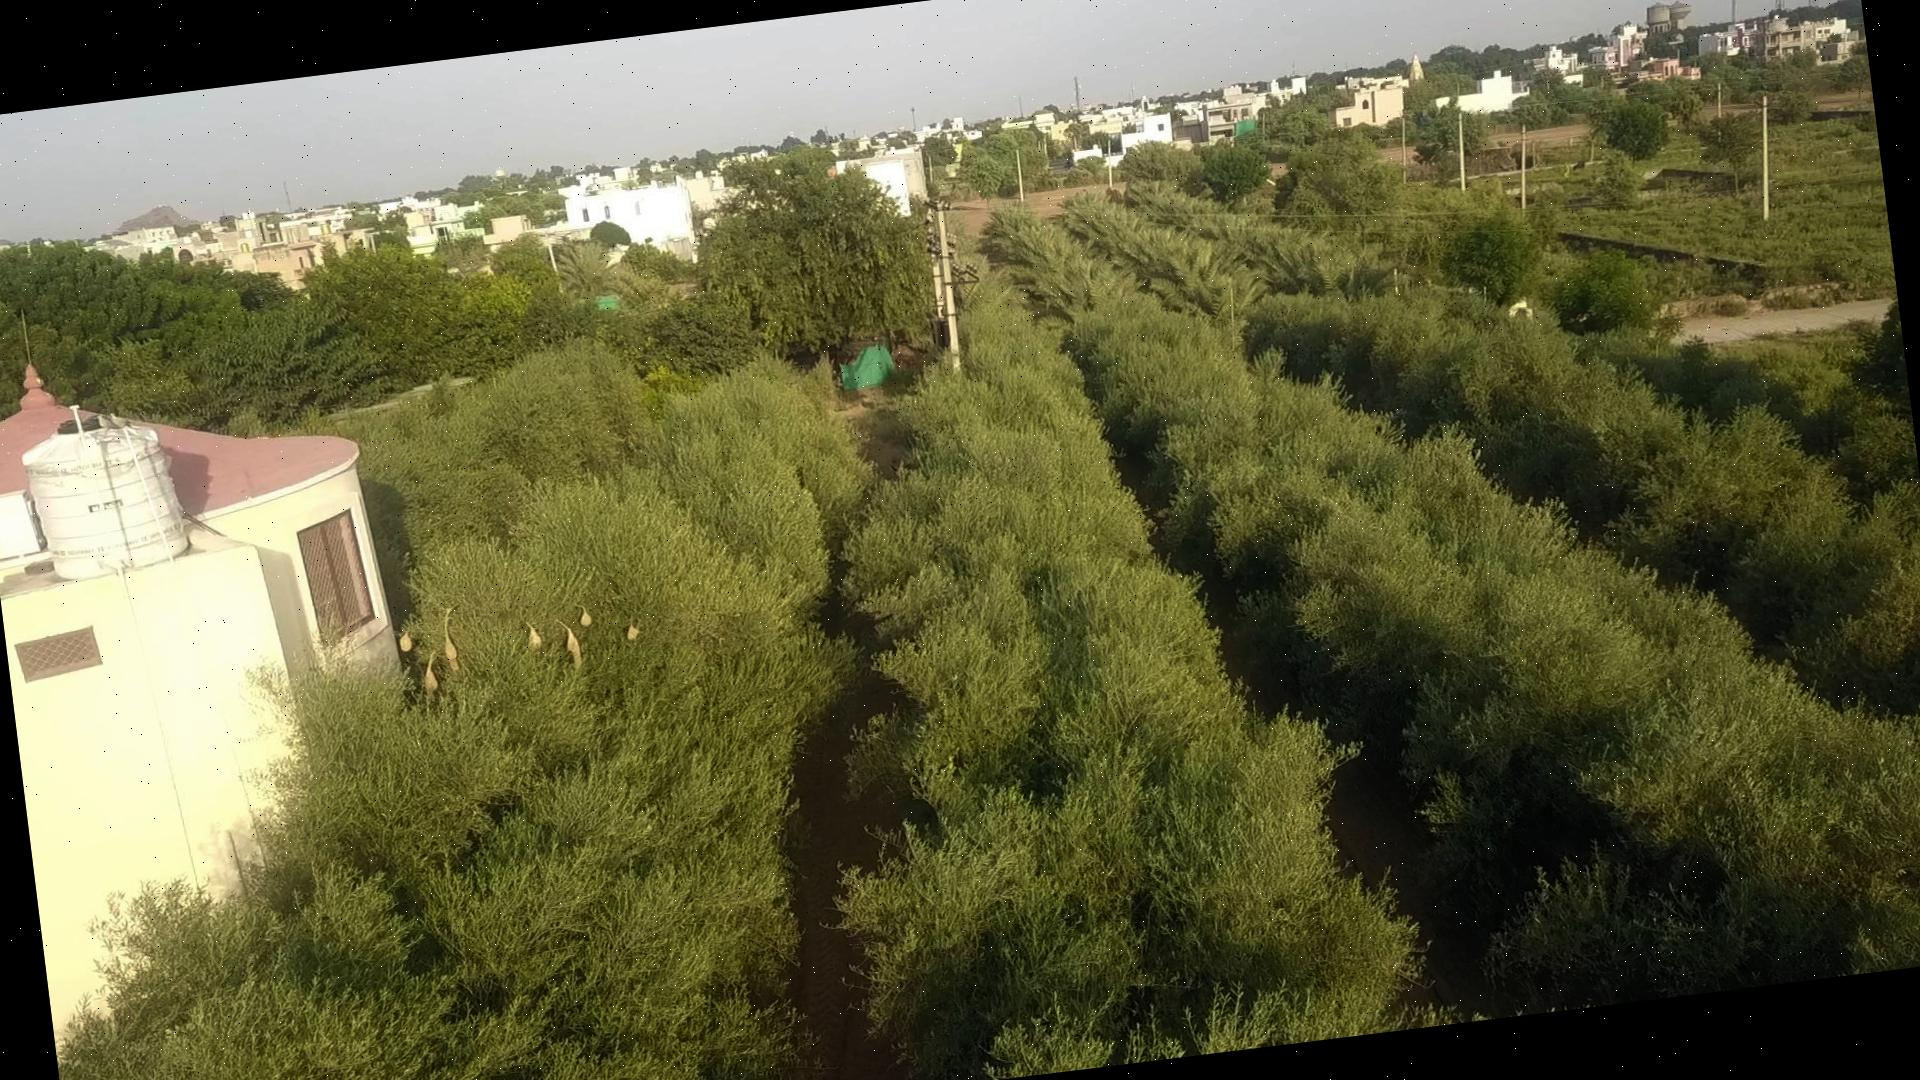canopy: (1060, 294, 1920, 1005), (57, 361, 873, 1080), (839, 284, 1414, 1080), (1244, 289, 1920, 712)
road: (1201, 579, 1505, 1017), (795, 663, 918, 1080)
